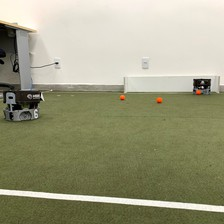ball: (153, 93, 163, 103), (117, 92, 127, 101), (193, 87, 200, 95)
goal: (119, 73, 224, 94)
robot: (1, 85, 43, 123), (190, 76, 213, 96)
